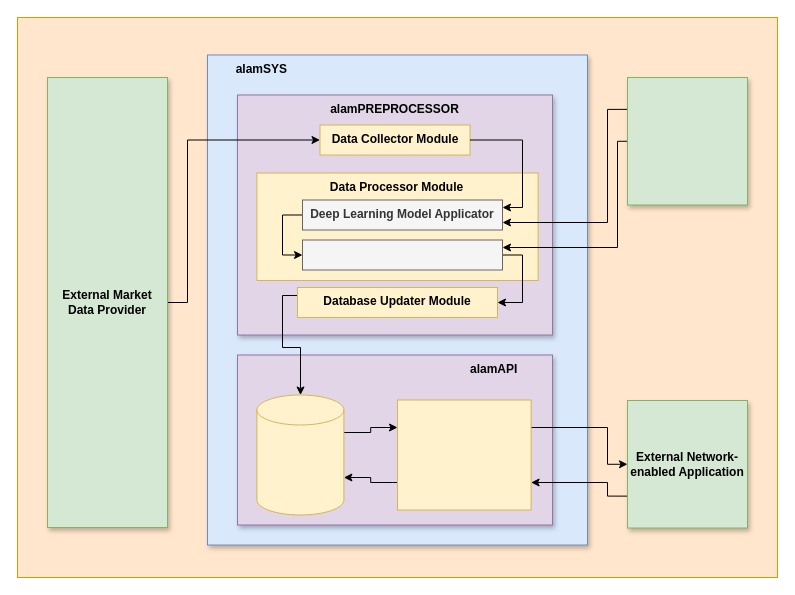
The diagram is 795 pixels wide and 595 high, and some of its shapes have lost their labels. The shapes that lost their labels are listed below. From the top down, each one's centre as x and y in pixels, then its label:
At pixel 688 142: "Deep Learning Model and Trading Algorithm".
At pixel 402 254: "Trading Algorithm Applicator".
At pixel 300 454: "alamDB".
At pixel 463 454: "API Endpoints".
